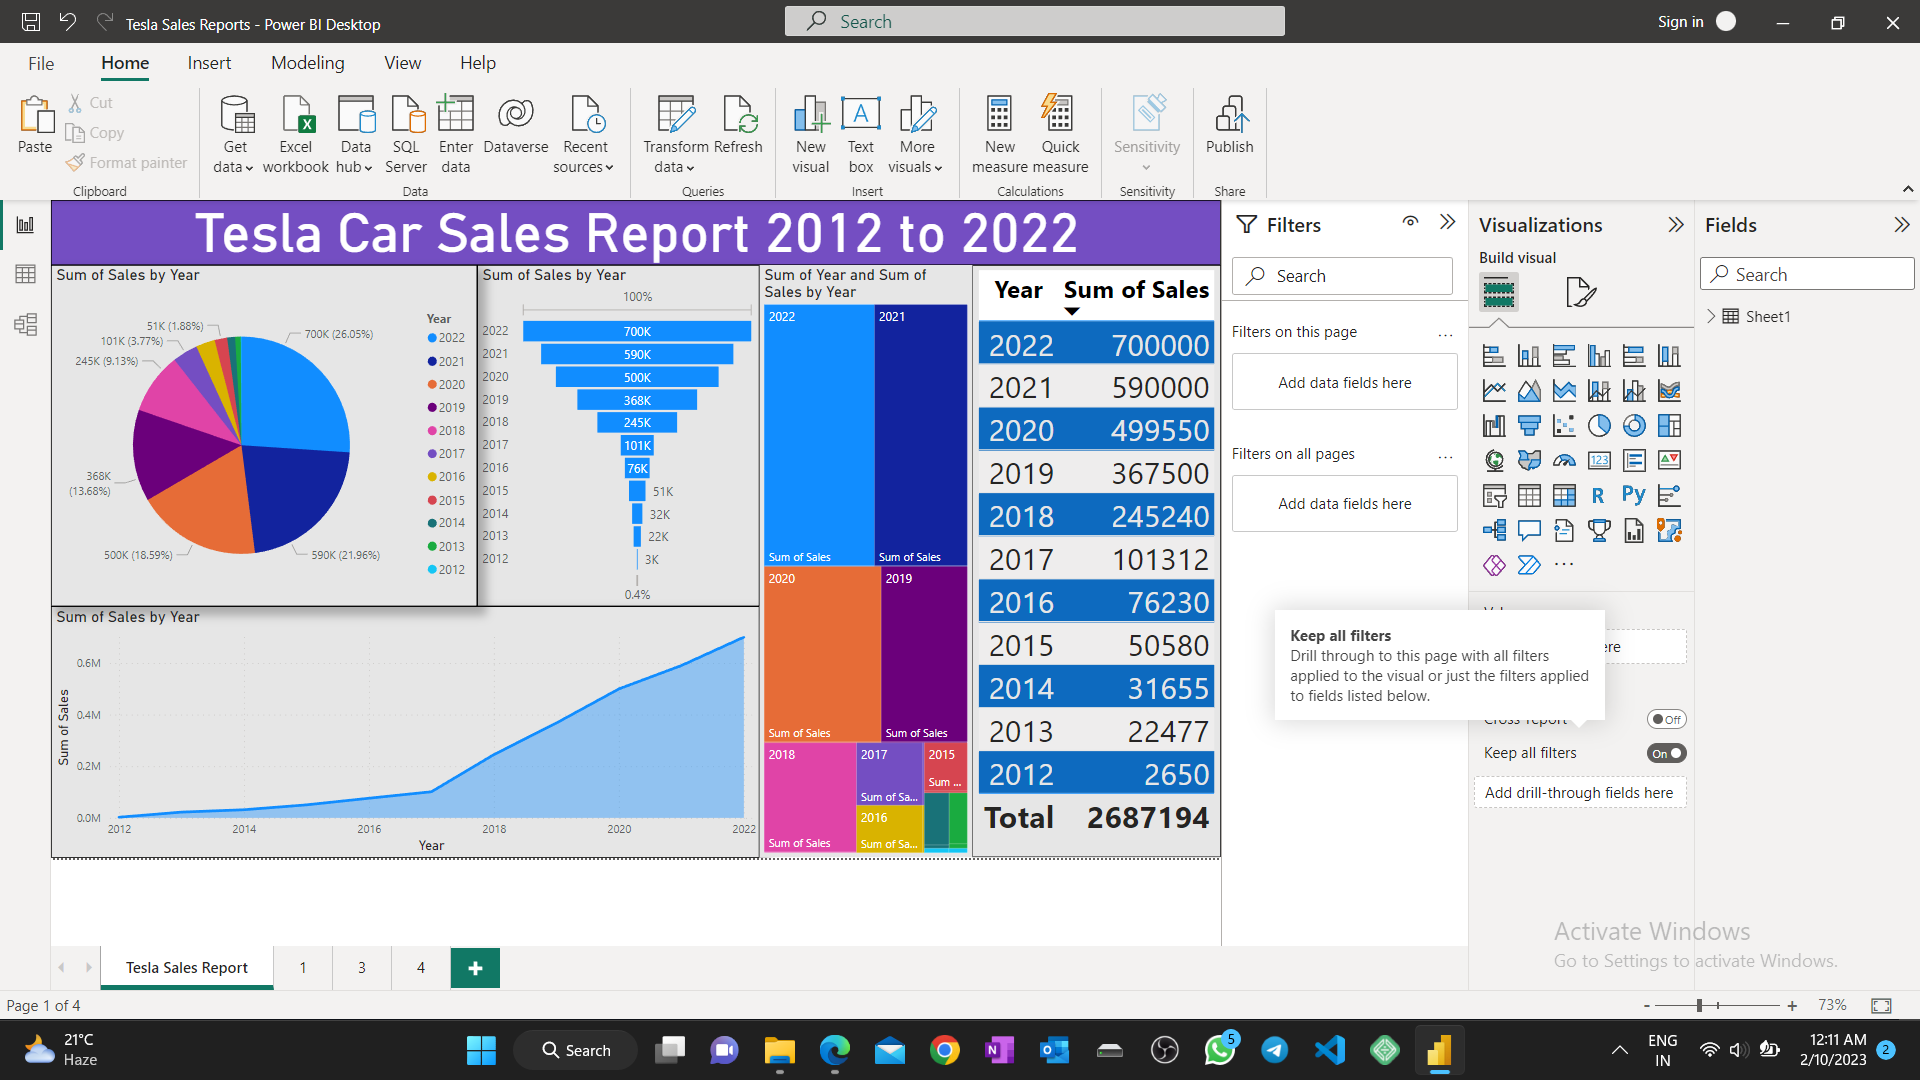

The page's visual inventory and layout, read from the dashboard file:
{"tool":"powerbi","page":{"name":"Tesla Sales Report","canvas":[1280,720],"ordinal":0},"visuals":[{"type":"textbox","title":"Tesla Car Sales Report 2012 to 2022","box":[0,0,1280.3,71.1],"z":0},{"type":"funnel","fields":{"Category":["Sheet1.Year"],"Y":["Sum(Sheet1.Sales)"]},"box":[466.4,71.1,309.1,373.4],"z":1000},{"type":"areaChart","fields":{"Category":["Sheet1.Year"],"Y":["Sum(Sheet1.Sales)"]},"box":[0,444.5,775.6,274.9],"z":2000},{"type":"tableEx","fields":{"Values":["Sheet1.Year","Sum(Sheet1.Sales)"]},"box":[1008.1,71.1,272.2,648.3],"z":3000},{"type":"treemap","fields":{"Group":["Sheet1.Year"],"Values":["Sum(Sheet1.Year)","Sum(Sheet1.Sales)"]},"box":[775.6,71.1,232.5,648.3],"z":4000},{"type":"pieChart","fields":{"Category":["Sheet1.Year"],"Y":["Sum(Sheet1.Sales)"]},"box":[0,71.1,466.4,373.4],"z":5000}]}

Visuals, with their boxes on the page's 1280x720 design canvas (x1, y1, x2, y2). These are canvas units, not pixel positions in the 1920x1080 screenshot, which may show the page scaled, cropped or inside an application window:
"Tesla Car Sales Report 2012 to 2022" textbox: [0, 0, 1280, 71]
funnel - Sheet1.Year x Sum(Sheet1.Sales): [466, 71, 776, 444]
areaChart - Sheet1.Year x Sum(Sheet1.Sales): [0, 444, 776, 719]
tableEx - Sheet1.Year x Sum(Sheet1.Sales): [1008, 71, 1280, 719]
treemap - Sheet1.Year x Sum(Sheet1.Year): [776, 71, 1008, 719]
pieChart - Sheet1.Year x Sum(Sheet1.Sales): [0, 71, 466, 444]
